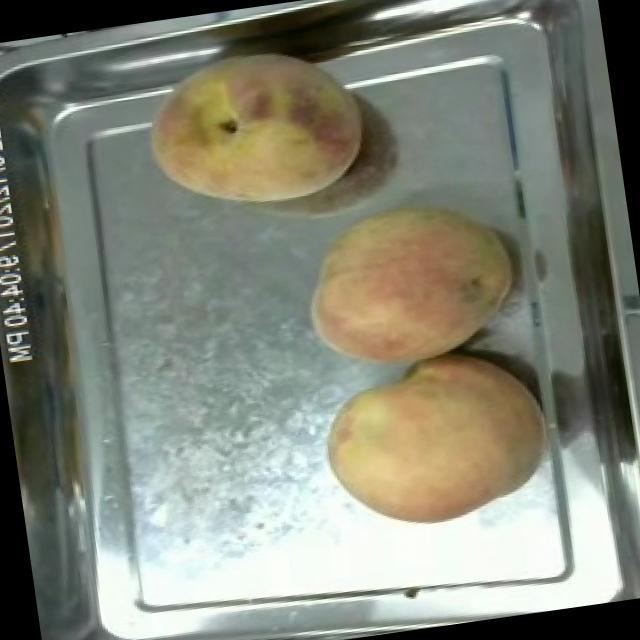Fruit: (310, 340, 562, 546), (131, 26, 382, 226), (290, 180, 532, 386)
